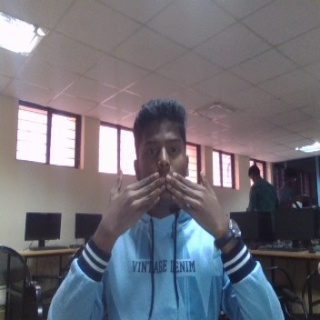Thank You: (101, 167, 232, 238)
